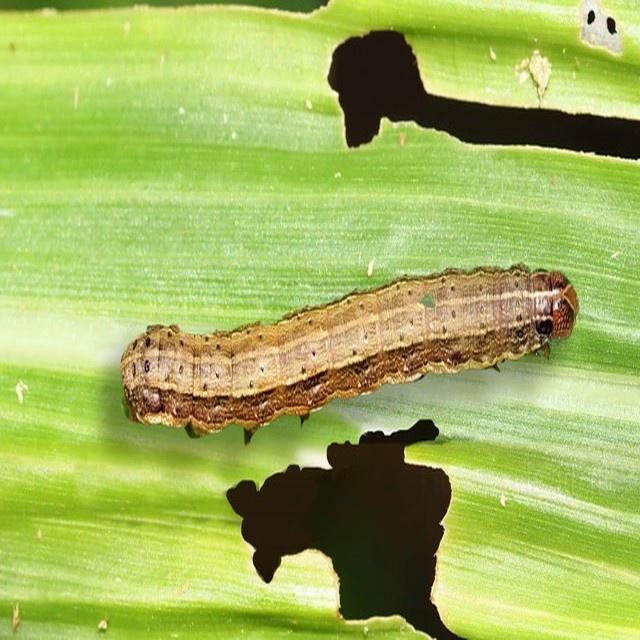gusano_cogollero: (122, 262, 586, 444)
